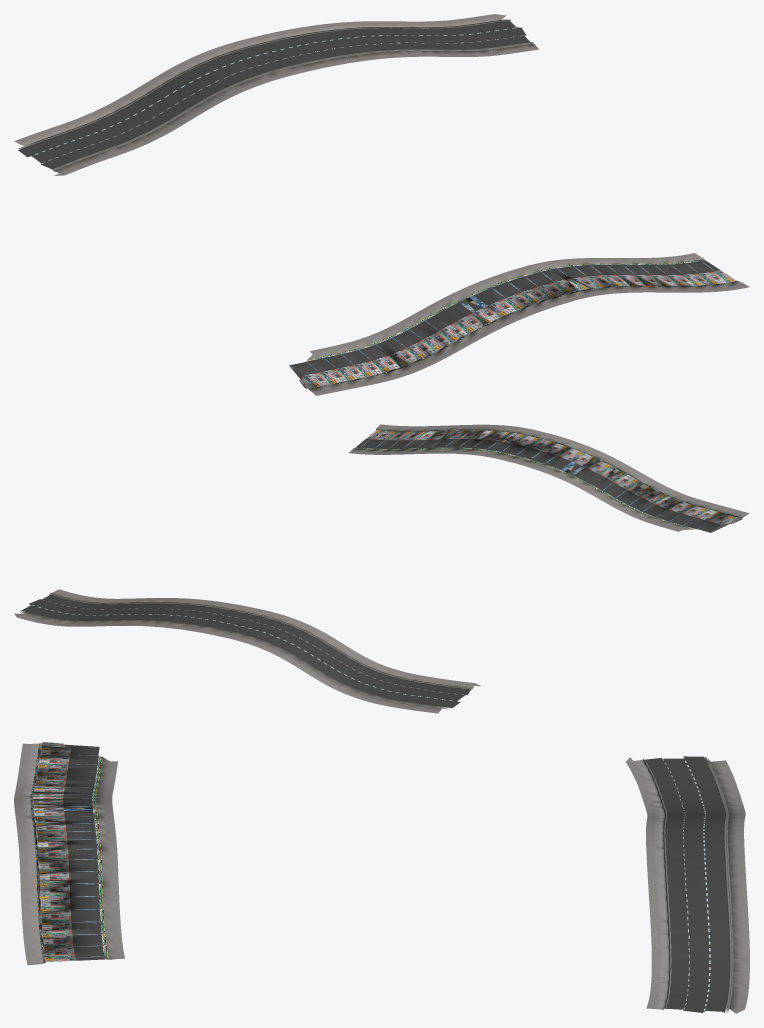
Rendered from event3_char2_v0_bridge.glb.
3 views of the same model, one above another, from view 1: azimuth 30°, elevation 25°; view 2: azimuth 150°, elevation 25°; view 3: azimuth 270°, elevation 25° (orthographic). The views are drawn at different scales.
Parts seen in each view (by area): view 1: SM_Env_Sidewalk_Straight_01.003, Road.001; view 2: SM_Env_Sidewalk_Straight_01.003, Road.001; view 3: SM_Env_Sidewalk_Straight_01.003, Road.001.
Part boxes in pixels (x1,y1,x2,y2): SM_Env_Sidewalk_Straight_01.003: (14, 14, 538, 175); Road.001: (289, 253, 749, 395); SM_Env_Sidewalk_Straight_01.003: (14, 589, 480, 713); Road.001: (349, 424, 749, 532); SM_Env_Sidewalk_Straight_01.003: (626, 756, 749, 1013); Road.001: (14, 742, 124, 965).
Bounding box in the file's own units: 158 × 10.92 × 181.
Materials: 1 (1 with a texture image).
